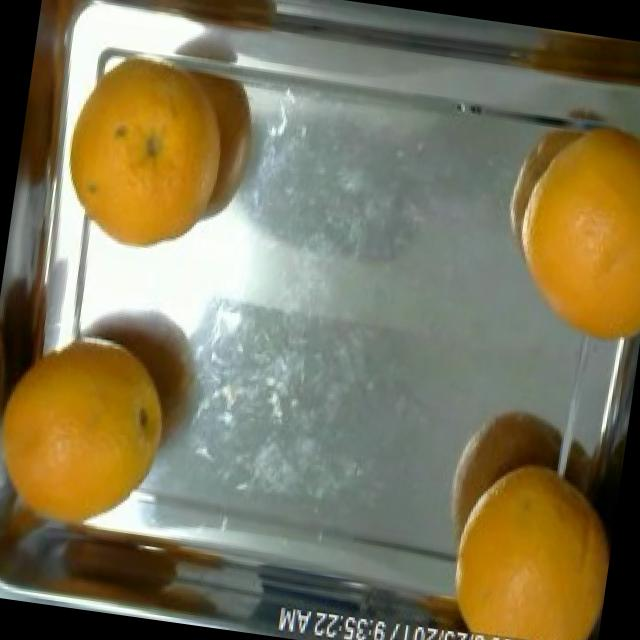Fruit: (440, 439, 623, 640)
